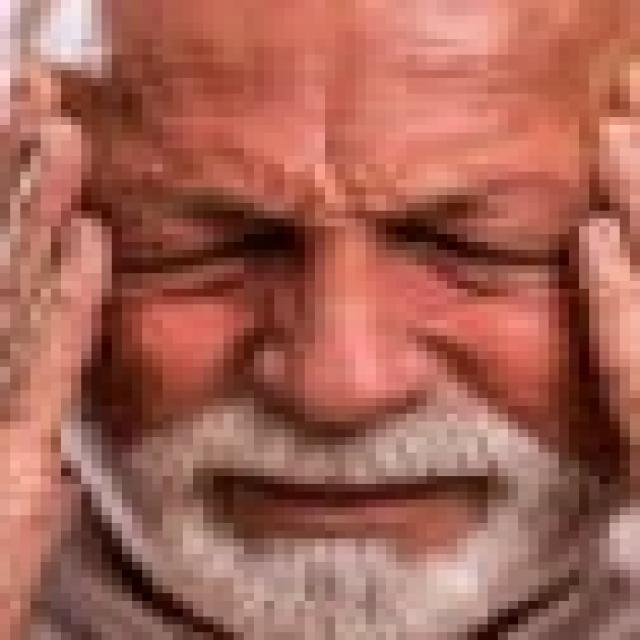Anxiety: (30, 0, 630, 632)
